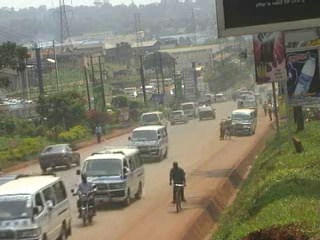Car: (36, 142, 81, 173), (167, 109, 188, 126), (197, 105, 217, 120)
Motorcycle: (68, 183, 101, 225)
